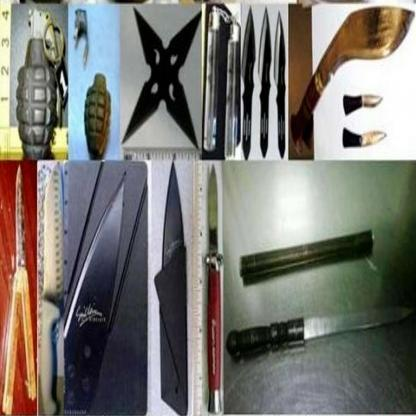Grenade: (17, 10, 68, 161), (84, 71, 112, 159)
Knife: (64, 170, 126, 415), (228, 303, 413, 362), (154, 159, 188, 415), (8, 161, 37, 416), (204, 162, 225, 414), (44, 161, 63, 416), (241, 7, 256, 162), (258, 4, 271, 156), (274, 9, 286, 160), (341, 89, 384, 117), (343, 125, 387, 152)
